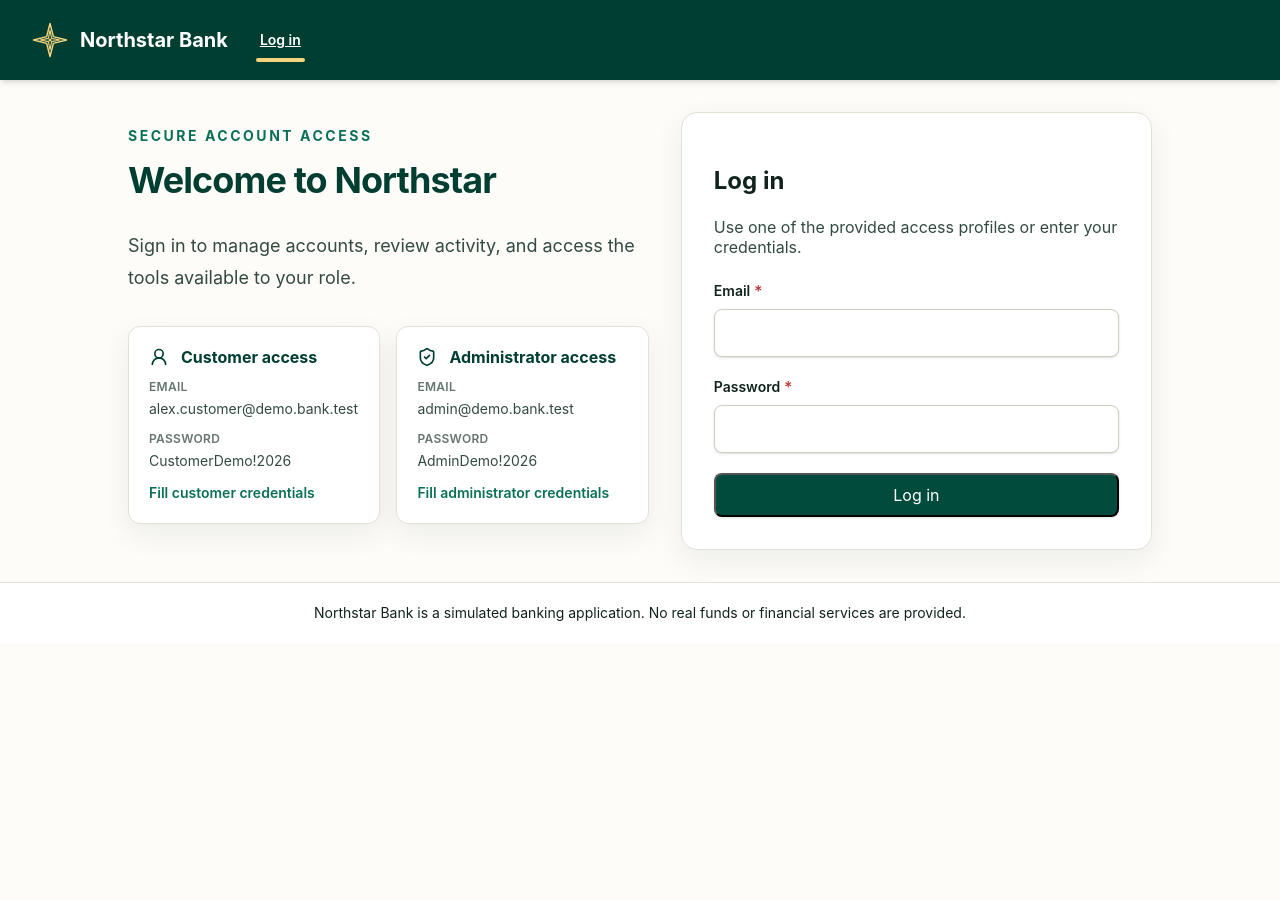
Test case: authentication flow › shows the backend's safe generic login failure
Expected: the heading "Log in" is shown, [714,166,784,195]
Step 1. Type "alex.customer@demo.bank.test" into the field labelled "Email" → (916, 333), box [714,309,1119,357]
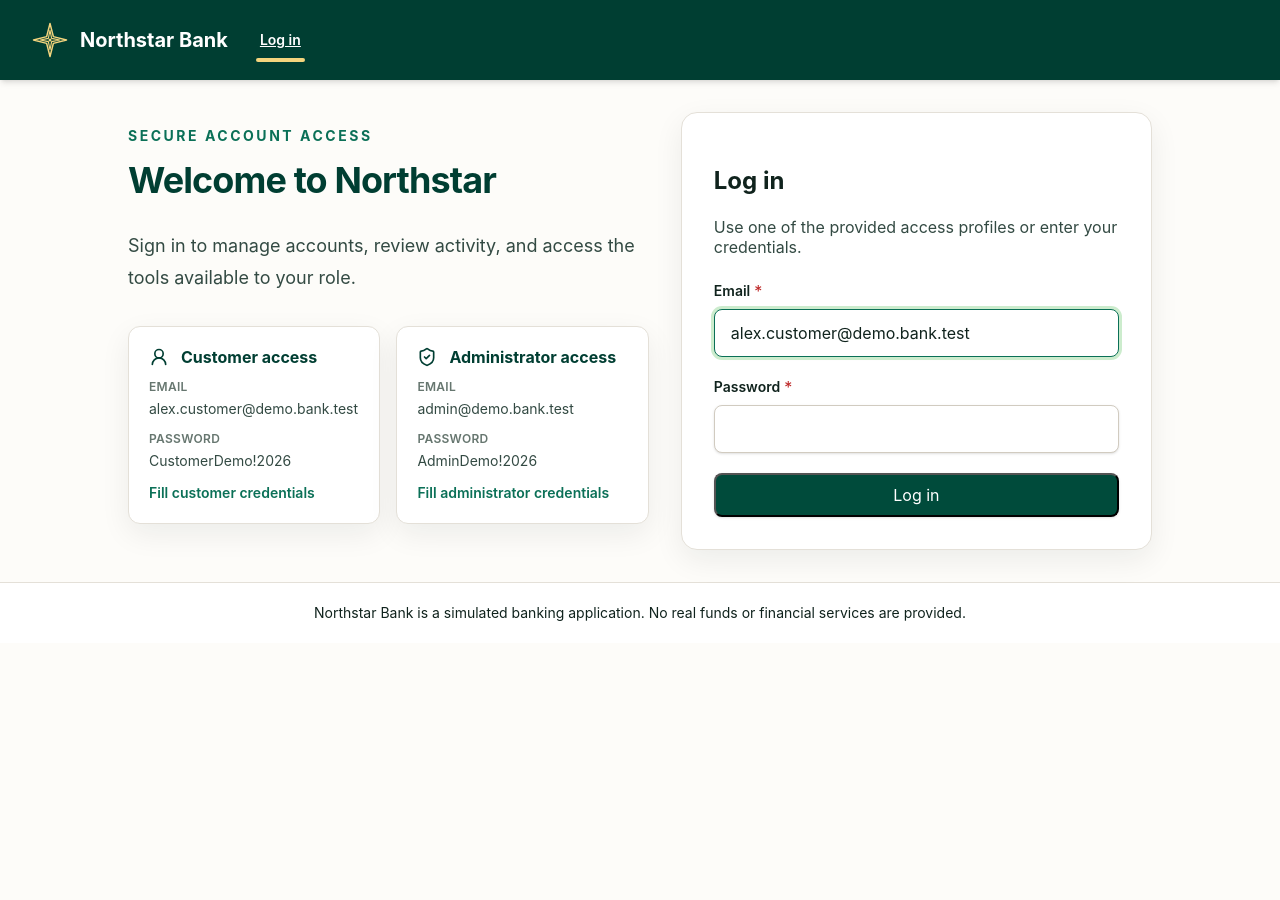
Step 2. Type "wrong" into the password field labelled "Password" → (916, 429), box [714,405,1119,453]
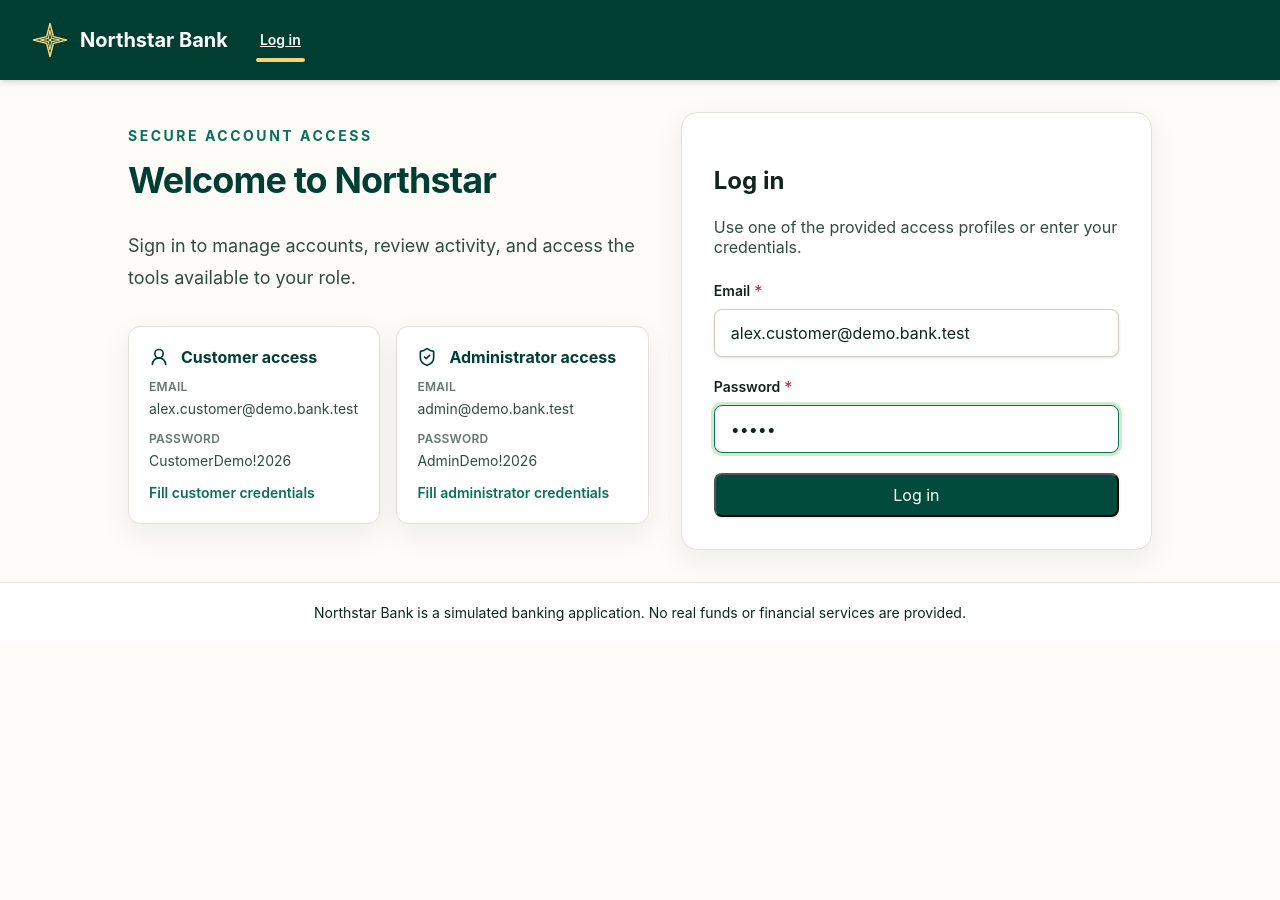
Step 3. Click the button "Log in" → (916, 495), box [714,473,1119,517]
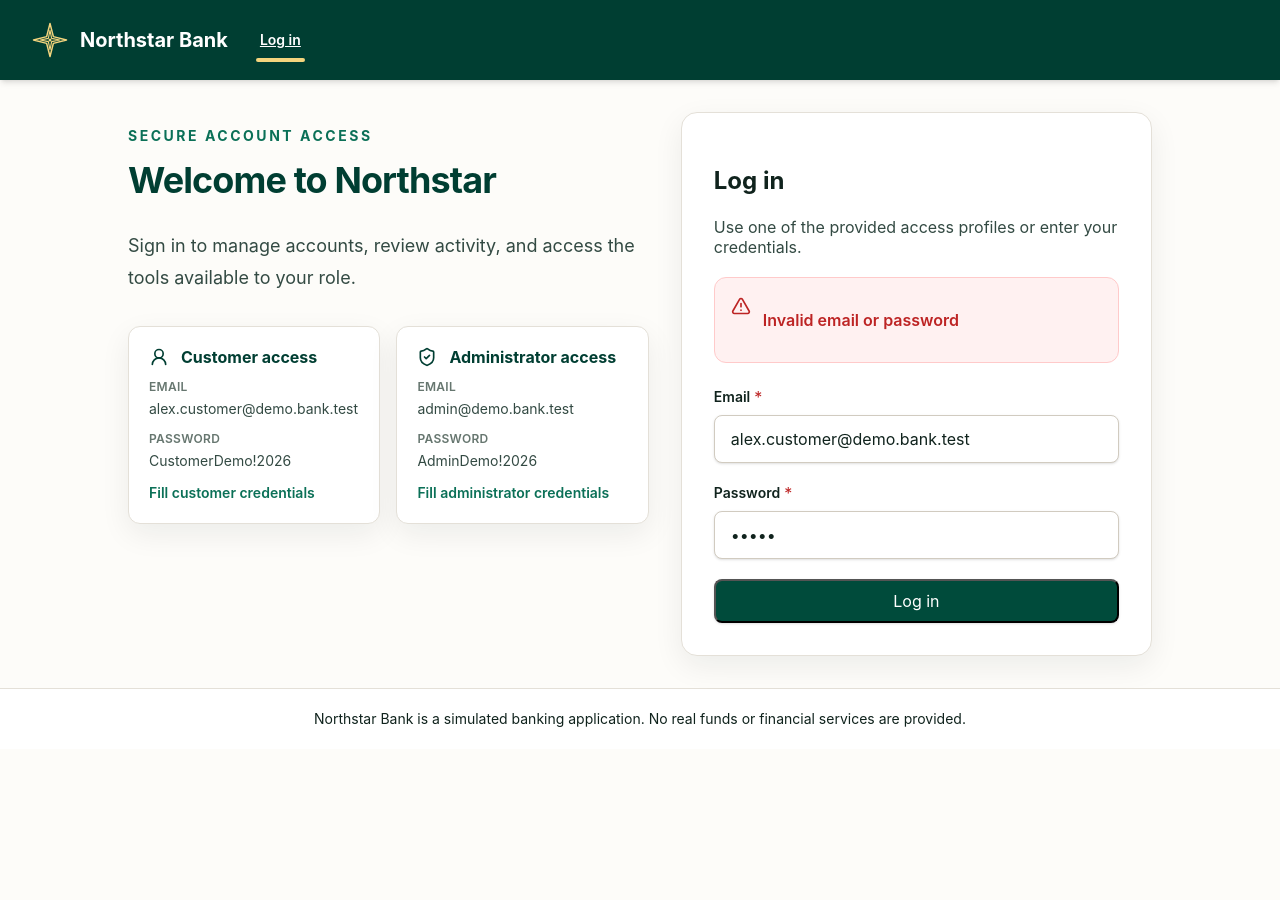
Expected: the text "Invalid email or password" is shown, [763,310,959,330]
